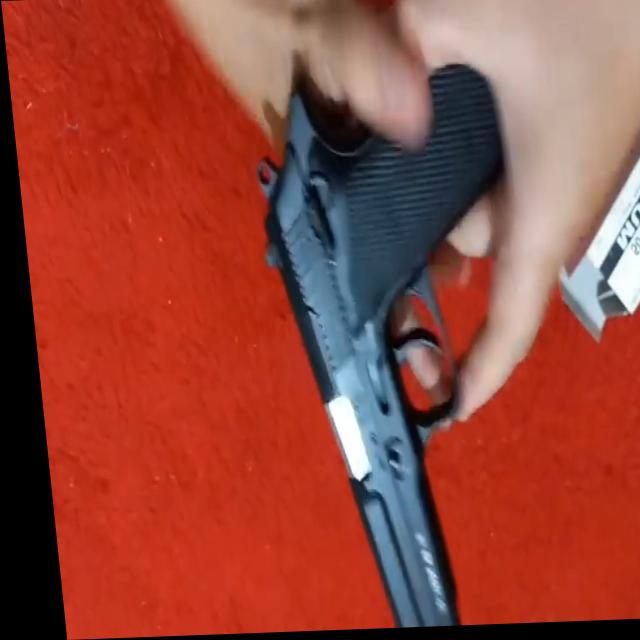handgun: (240, 65, 531, 633)
